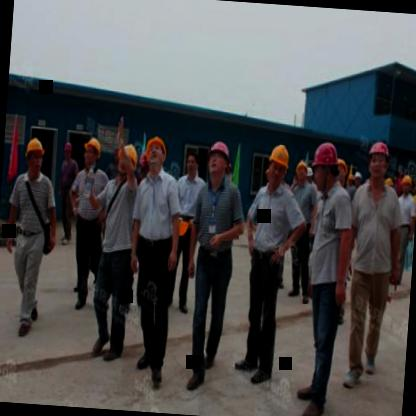head: (182, 150, 200, 177)
helmet: (264, 140, 292, 190), (312, 140, 340, 190), (205, 137, 233, 186), (364, 138, 392, 184), (24, 133, 50, 177), (143, 130, 166, 177), (113, 140, 138, 179), (82, 134, 103, 169), (294, 158, 310, 185), (334, 158, 349, 184), (398, 170, 413, 194), (62, 140, 74, 164)
